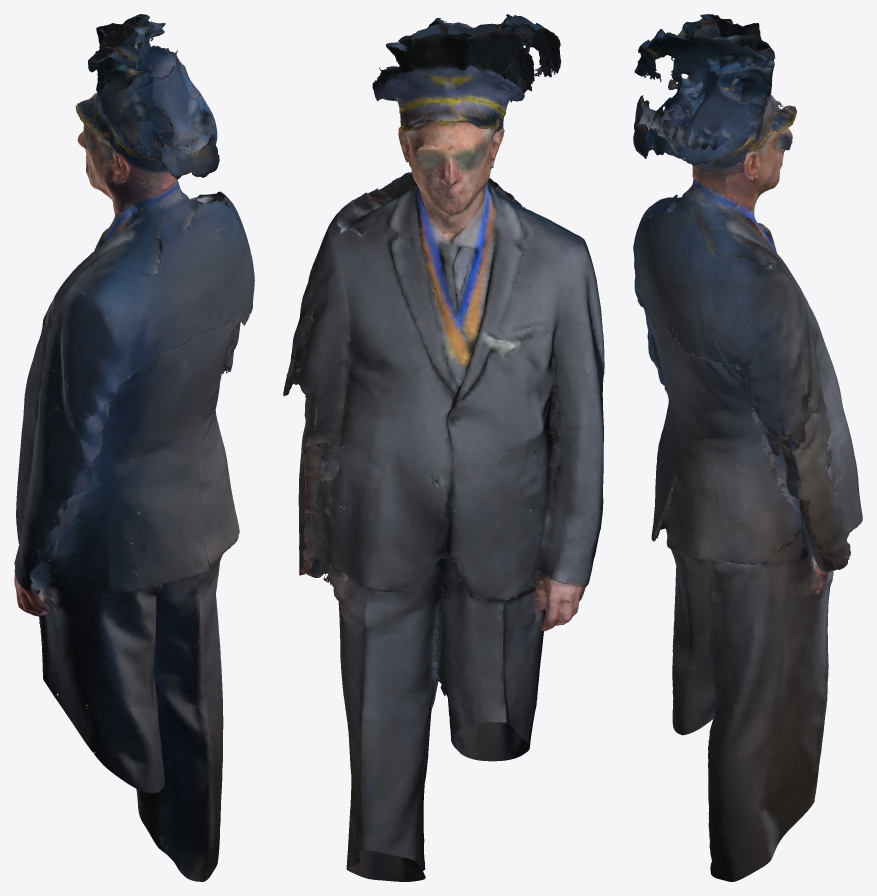
File: piloto.glb
3 views of the same model, side by side, from view 1: azimuth 30°, elevation 25°; view 2: azimuth 150°, elevation 25°; view 3: azimuth 270°, elevation 25° (orthographic). The views are drawn at different scales.
Parts seen in each view (by area): view 1: 3DModel; view 2: 3DModel; view 3: 3DModel.
Part boxes in pixels (<box>): 3DModel: <box>14,14,254,881</box>; 3DModel: <box>283,14,604,881</box>; 3DModel: <box>633,14,862,881</box>.
Size of the model in its own units: 2.09 by 6.75 by 1.72.
Materials: 1 (1 with a texture image).
